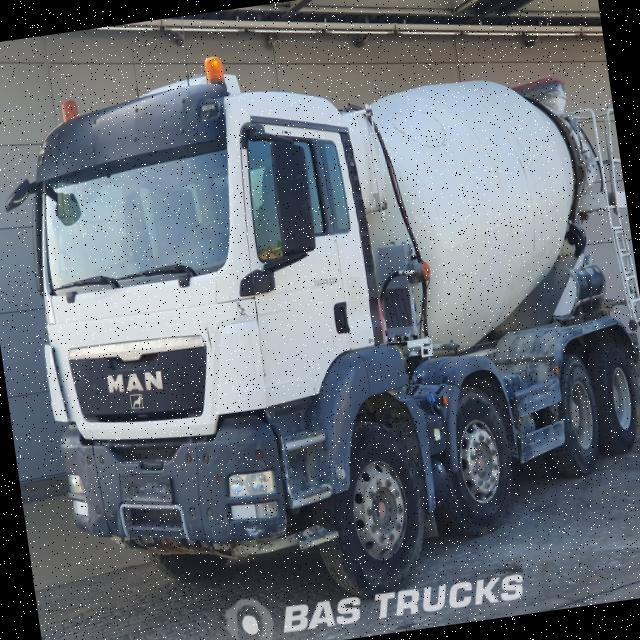Mixer Truck: (11, 28, 640, 635)
